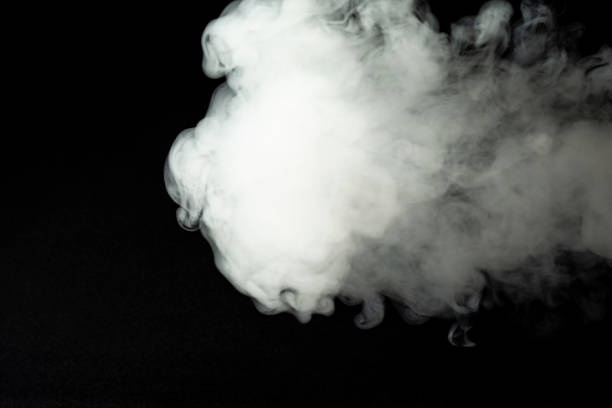smoke: (170, 2, 612, 323)
